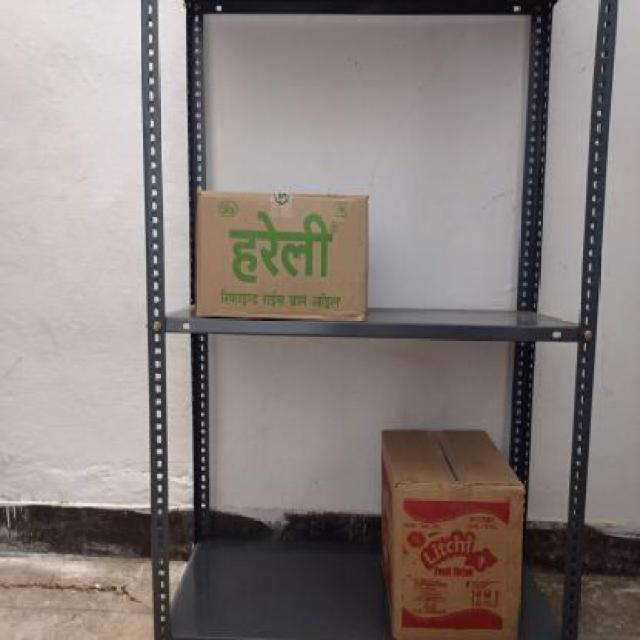box: (193, 190, 372, 322), (394, 487, 528, 638)
